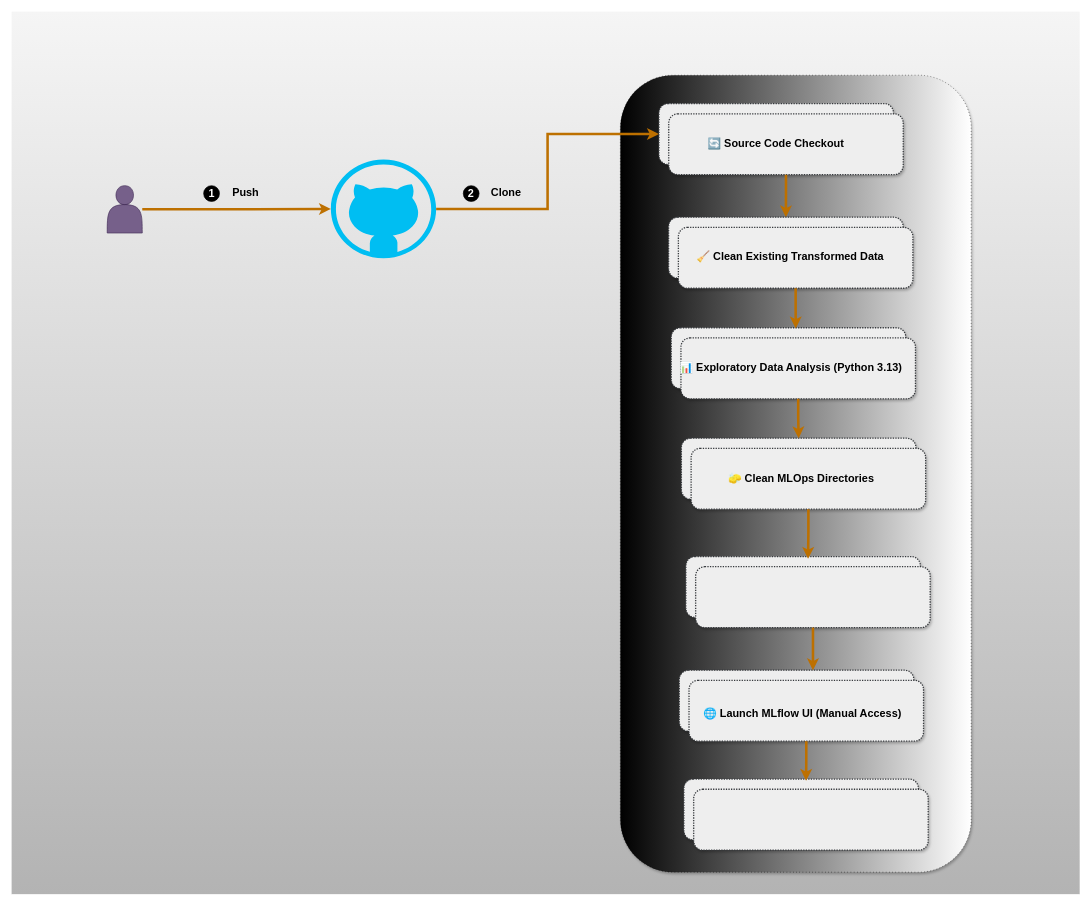
The diagram is 1091 pixels wide and 906 high, and some of its shapes have lost their labels. The shapes that lost their labels are listed below. From the top down, each one's centre as x and y in pixels, then its label:
pixel 813 597: 🤖 Run MLOps Tasks (Python 3.10)
pixel 811 820: 🚀 Serve Best Model Locally
